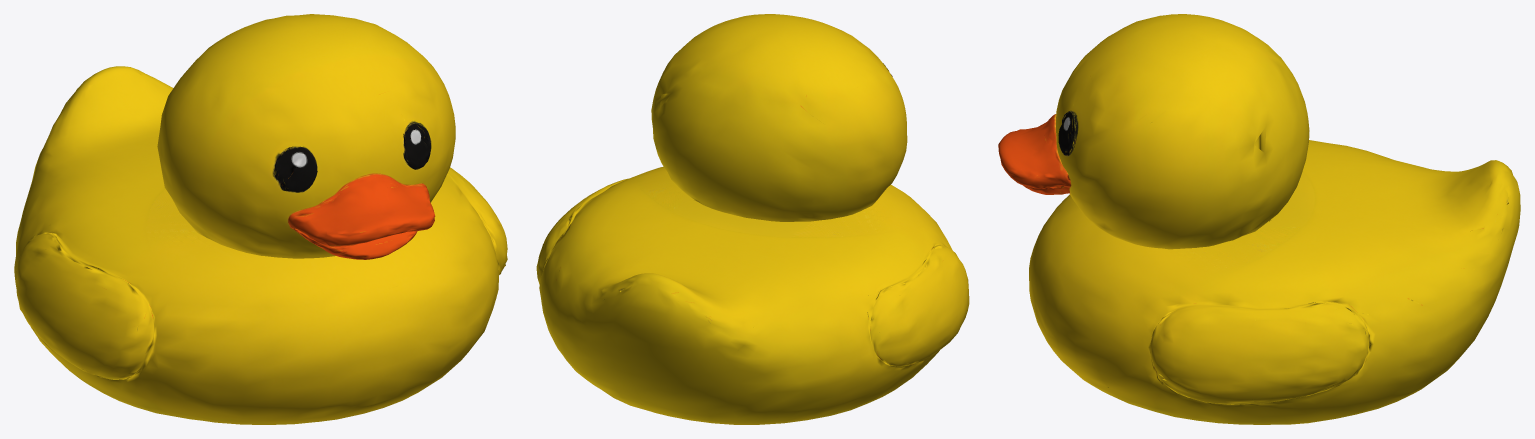
Rendered from rubber-duck.fbx.
3 views of the same model, side by side, from view 1: azimuth 30°, elevation 25°; view 2: azimuth 150°, elevation 25°; view 3: azimuth 270°, elevation 25° (orthographic). The views are drawn at different scales.
Visible parts, largest first — view 1: Mesh_0; view 2: Mesh_0; view 3: Mesh_0.
Boxes of the visible parts, x1,y1,x2,y2 form: Mesh_0: (14, 14, 507, 424); Mesh_0: (536, 14, 969, 424); Mesh_0: (998, 14, 1520, 424).
Size of the model in its own units: 86.67 by 65.97 by 95.56.
1 material, 1 textured.
